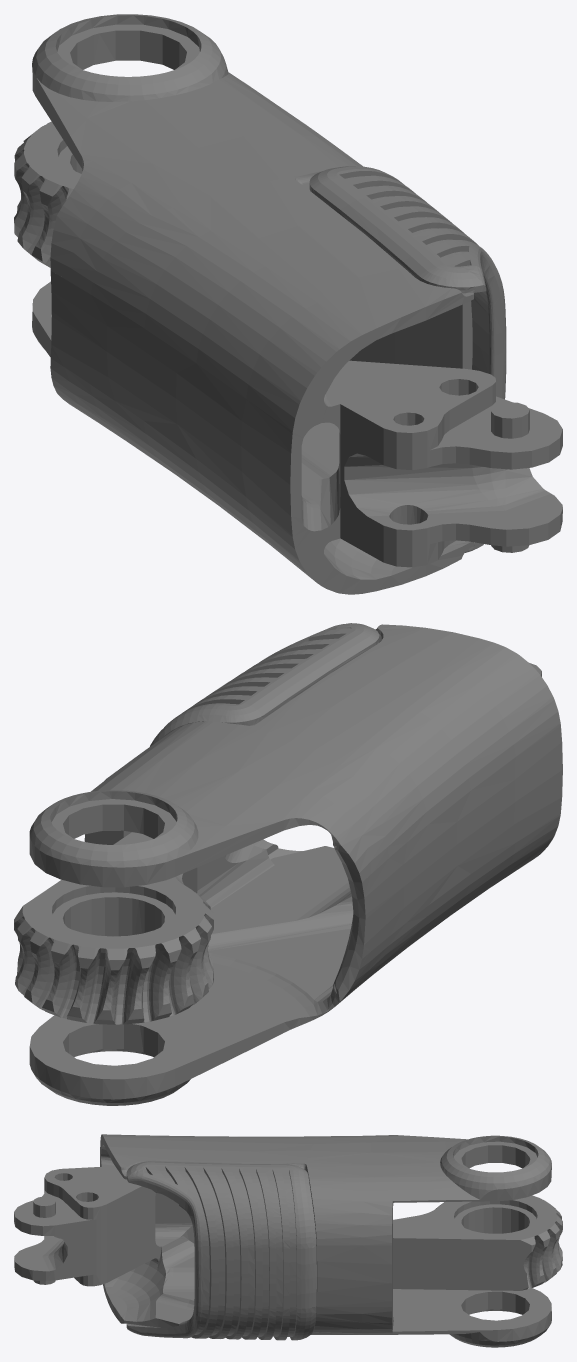
The model's file is rh_index_proximal_vis.obj.
3 views of the same model, one above another, from view 1: azimuth 30°, elevation 25°; view 2: azimuth 150°, elevation 25°; view 3: azimuth 270°, elevation 25° (orthographic). The views are drawn at different scales.
Visible parts, largest first — view 1: rh_index_proximal; view 2: rh_index_proximal; view 3: rh_index_proximal.
Part boxes in pixels (x1,y1,x2,y2): rh_index_proximal: (14, 14, 562, 594); rh_index_proximal: (14, 623, 562, 1105); rh_index_proximal: (14, 1134, 562, 1347).
Bounding box in the file's own units: 0.0186 × 0.0168 × 0.0479.
1 material, 1 textured.
